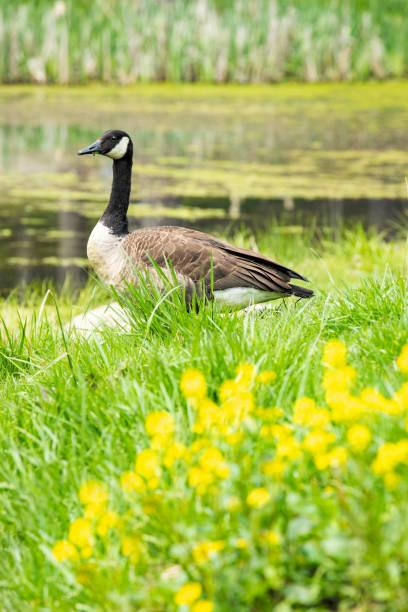Canadian-Goose: (74, 125, 308, 322)
